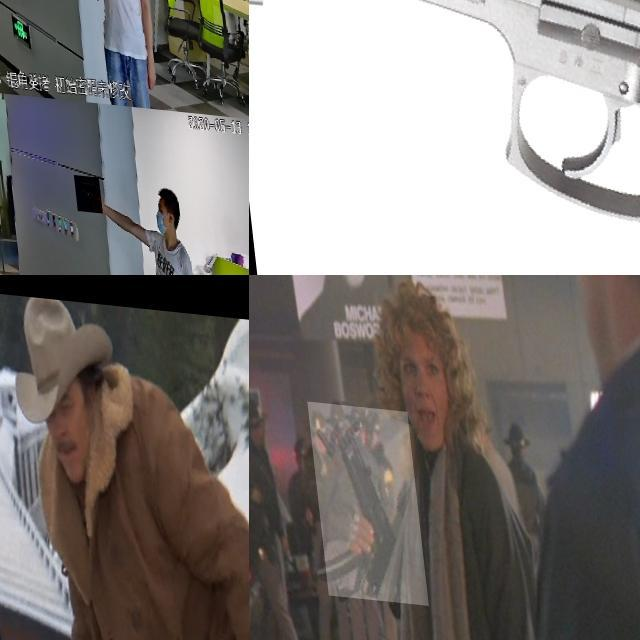gun-knife-thesis - v11 Yolov5 augmented: (249, 0, 640, 275), (301, 398, 418, 600), (64, 166, 92, 204), (0, 228, 13, 275), (105, 0, 125, 22), (0, 0, 12, 25)
